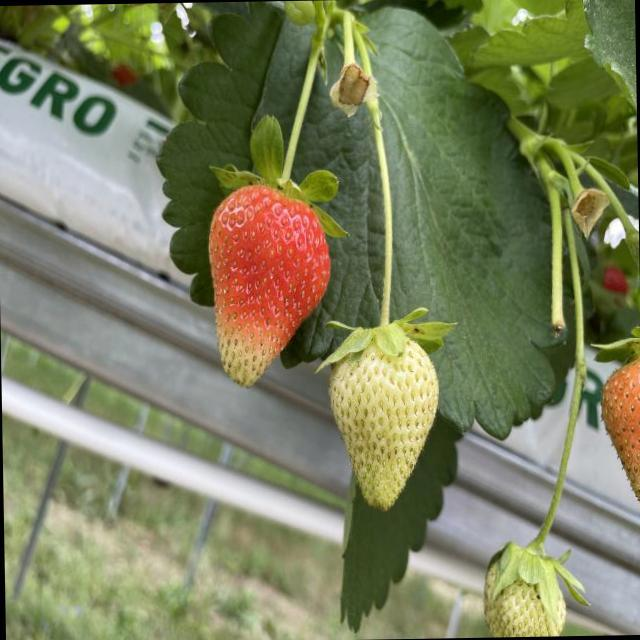stem: (324, 76, 452, 367), (212, 24, 344, 232)
strawberryNR: (328, 342, 435, 507)
strawberryR: (207, 187, 327, 386), (604, 359, 639, 499)
